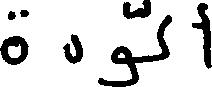X: (99, 0, 136, 86), (0, 5, 26, 69), (200, 0, 211, 73), (158, 10, 170, 65), (65, 29, 80, 68)
